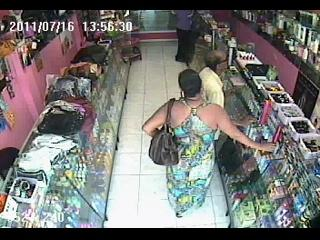Normal: (142, 68, 278, 220), (148, 99, 179, 167), (198, 50, 228, 109), (173, 10, 196, 66)
